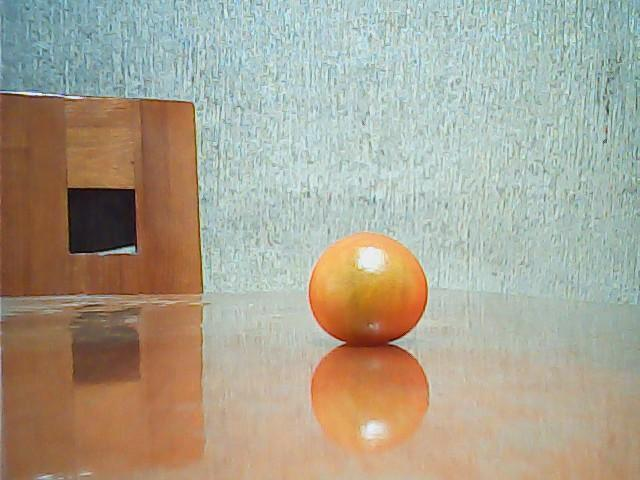verde: (306, 231, 430, 346)
